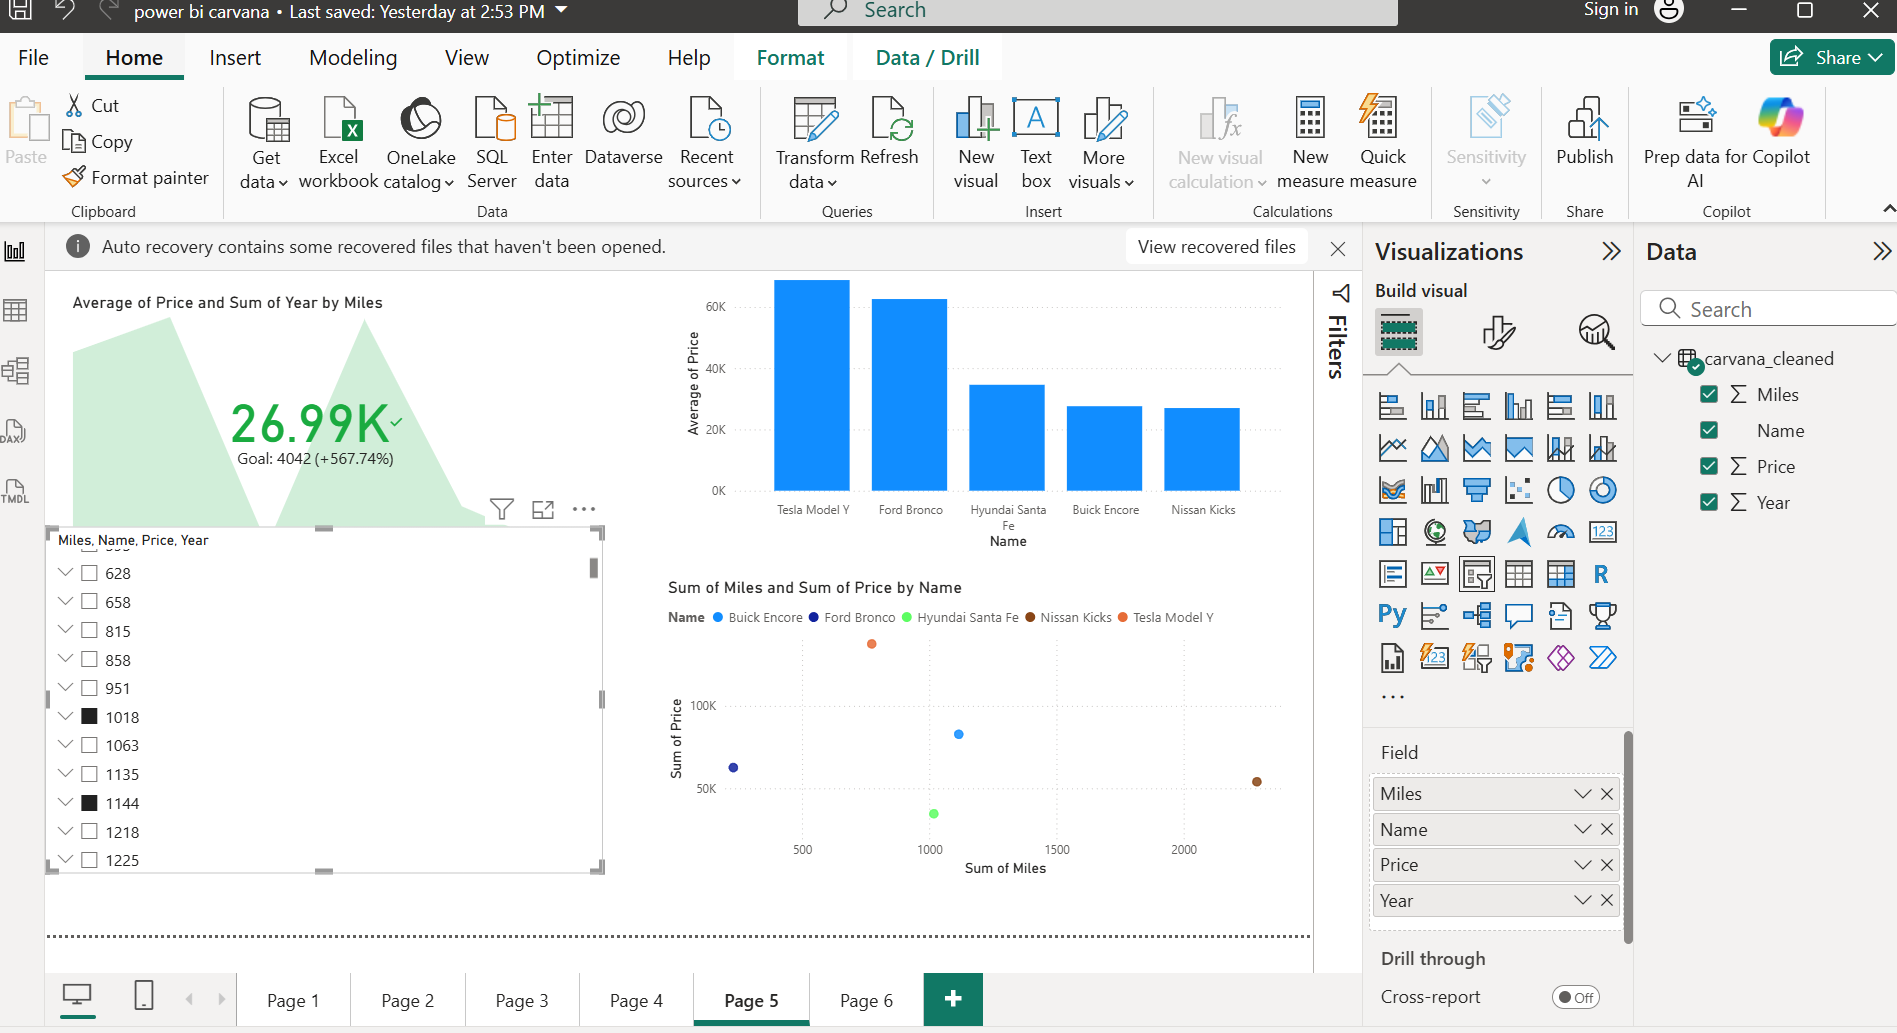

Layout of this report page (visuals, bound fields, positions):
{"tool":"powerbi","page":{"name":"Page 5","canvas":[1280,720],"ordinal":4},"visuals":[{"type":"kpi","fields":{"Indicator":["Avg(carvana_cleaned.Price)"],"TrendLine":["carvana_cleaned.Miles"],"Goal":["Sum(carvana_cleaned.Year)"]},"box":[22.7,71.8,500.8,262.7],"z":0},{"type":"columnChart","fields":{"Category":["carvana_cleaned.Name"],"Y":["Avg(carvana_cleaned.Price)"]},"box":[640.6,20.8,612.3,313.7],"z":1},{"type":"slicer","fields":{"Values":["carvana_cleaned.Miles","carvana_cleaned.Name","carvana_cleaned.Price","carvana_cleaned.Year"]},"box":[0,308,563.2,349.6],"z":2},{"type":"scatterChart","fields":{"X":["Sum(carvana_cleaned.Miles)"],"Y":["Sum(carvana_cleaned.Price)"],"Series":["carvana_cleaned.Name"]},"box":[624,359.5,646,305.4],"z":3}]}

Visuals, with their boxes on the page's 1280x720 design canvas (x1, y1, x2, y2). These are canvas units, not pixel positions in the 1897x1033 screenshot, which may show the page scaled, cropped or inside an application window:
kpi - Avg(carvana_cleaned.Price) x carvana_cleaned.Miles: box(23, 72, 524, 334)
columnChart - carvana_cleaned.Name x Avg(carvana_cleaned.Price): box(641, 21, 1253, 334)
slicer - carvana_cleaned.Miles x carvana_cleaned.Name: box(0, 308, 563, 658)
scatterChart - Sum(carvana_cleaned.Miles) x Sum(carvana_cleaned.Price): box(624, 360, 1270, 665)
